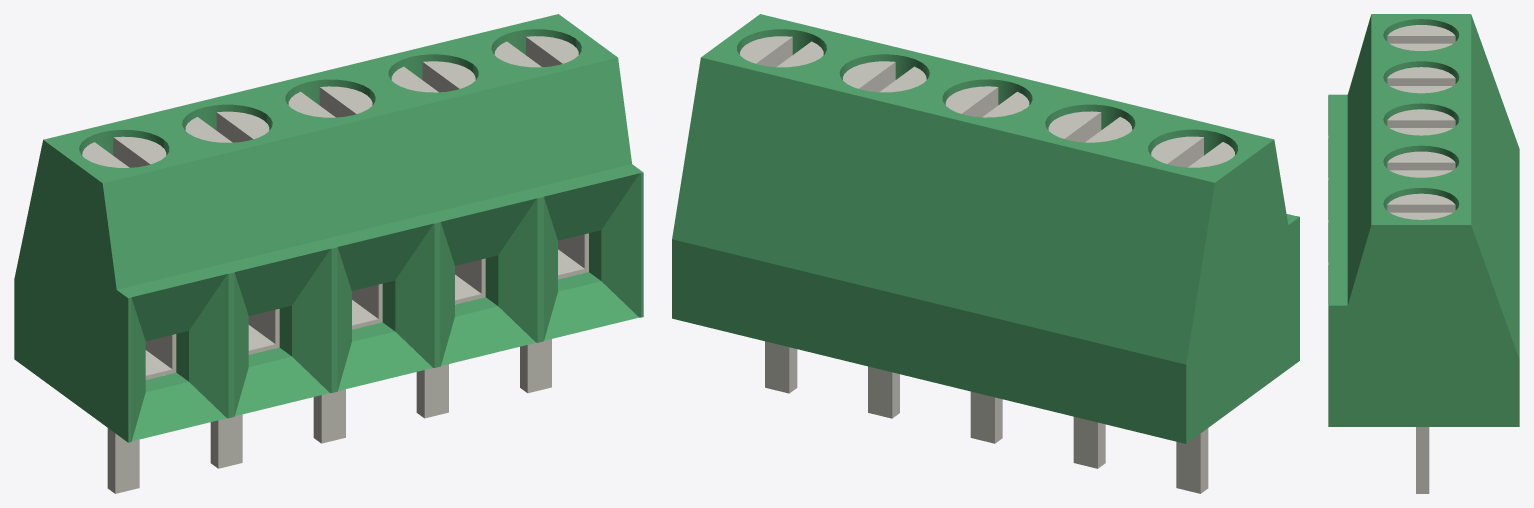
File: kc-terminalblock_phoenix_mkds-1-5-3.81_1x05_p3.81mm_horizontal.glb
The picture shows the model from 3 angles, left to right: view 1: azimuth 30°, elevation 25°; view 2: azimuth 150°, elevation 25°; view 3: azimuth 270°, elevation 25°; orthographic projection. The views are drawn at different scales.
Visible parts, largest first — view 1: 0.08333333333333333_0.4166666666666667_0.16666666666666666_0, 0.6666666666666666_0.6666666666666666_0.5833333333333334_0.8; view 2: 0.08333333333333333_0.4166666666666667_0.16666666666666666_0, 0.6666666666666666_0.6666666666666666_0.5833333333333334_0.8; view 3: 0.08333333333333333_0.4166666666666667_0.16666666666666666_0, 0.6666666666666666_0.6666666666666666_0.5833333333333334_0.8.
Boxes of the visible parts, bbox=[...] form: 0.08333333333333333_0.4166666666666667_0.16666666666666666_0: bbox=[14, 14, 643, 442]; 0.6666666666666666_0.6666666666666666_0.5833333333333334_0.8: bbox=[82, 36, 588, 493]; 0.08333333333333333_0.4166666666666667_0.16666666666666666_0: bbox=[672, 14, 1299, 443]; 0.6666666666666666_0.6666666666666666_0.5833333333333334_0.8: bbox=[740, 36, 1234, 493]; 0.08333333333333333_0.4166666666666667_0.16666666666666666_0: bbox=[1328, 14, 1519, 426]; 0.6666666666666666_0.6666666666666666_0.5833333333333334_0.8: bbox=[1387, 25, 1455, 493].
Bounding box in the file's own units: 1.9 × 1.2 × 0.73.
